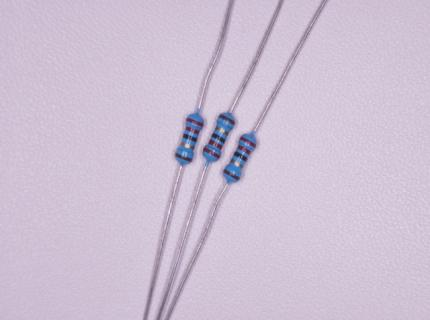Black band: (233, 151, 248, 163), (211, 133, 226, 144), (182, 133, 198, 142)
Brown band: (222, 168, 241, 182), (218, 113, 236, 126), (175, 152, 192, 162)
Gold band: (230, 158, 244, 169), (215, 125, 229, 136), (180, 141, 195, 150)
Red band: (203, 146, 221, 160), (239, 136, 257, 149), (186, 117, 204, 127), (208, 139, 223, 151), (237, 144, 252, 156), (185, 126, 200, 135)
